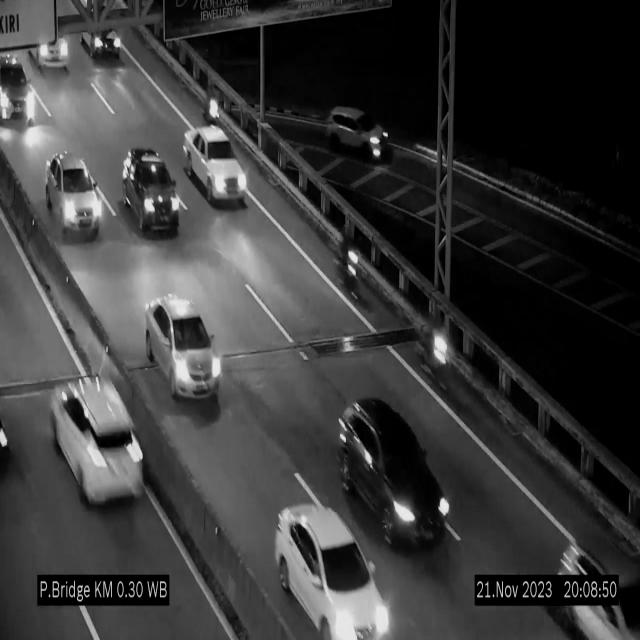Car: (337, 396, 451, 546), (276, 504, 392, 640), (45, 371, 147, 512), (554, 522, 640, 640), (146, 296, 222, 402), (43, 147, 103, 241), (317, 94, 395, 164), (121, 147, 180, 233), (183, 126, 247, 204), (0, 45, 34, 127), (29, 26, 74, 80), (82, 7, 124, 60)
Motorcycle: (423, 317, 453, 392), (339, 228, 363, 304), (204, 84, 225, 130)
